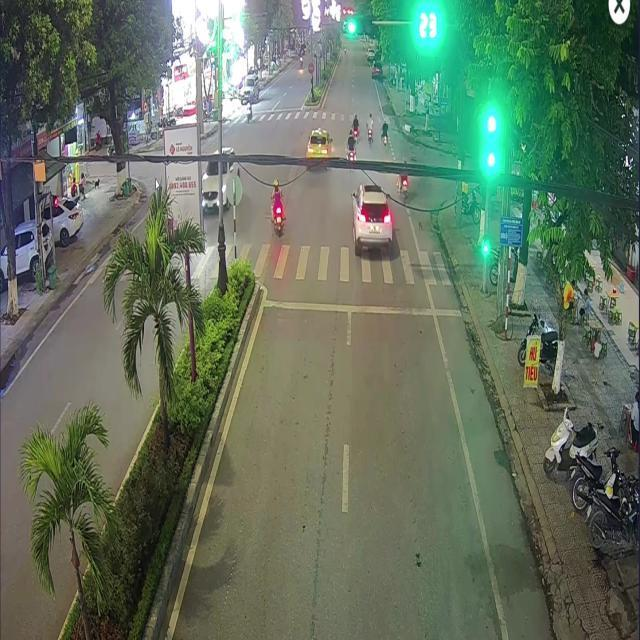car: (351, 183, 393, 254), (305, 128, 331, 167)
green_light: (346, 15, 373, 36), (486, 135, 495, 168), (483, 236, 487, 254)
motobike: (273, 206, 284, 233), (397, 174, 407, 201), (367, 127, 372, 146), (381, 133, 387, 147)
stop_line: (263, 299, 460, 315)
